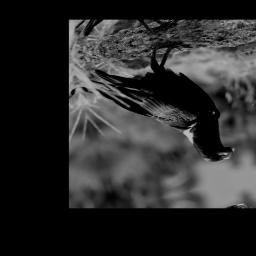Crow: (83, 29, 242, 186)
